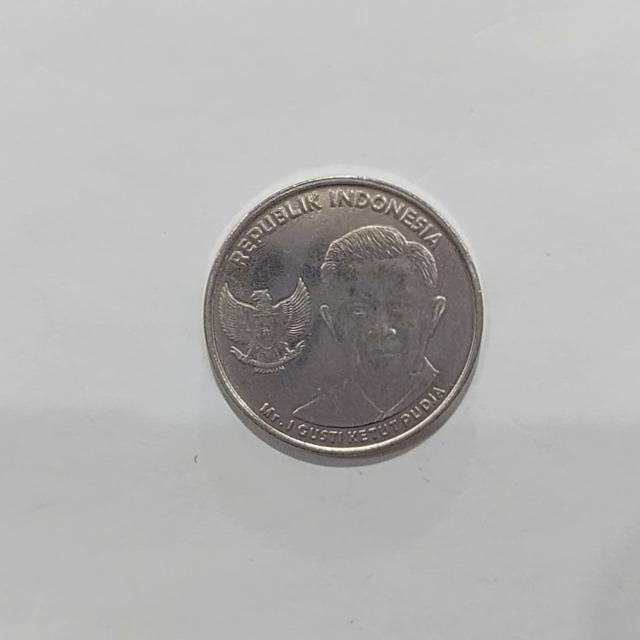Rp100: (202, 171, 485, 465)
